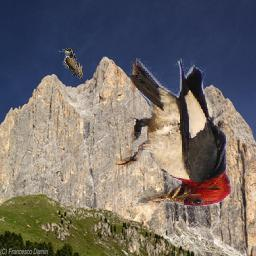Cuckoo: (53, 49, 83, 80)
Woodpecker: (115, 58, 231, 206)
